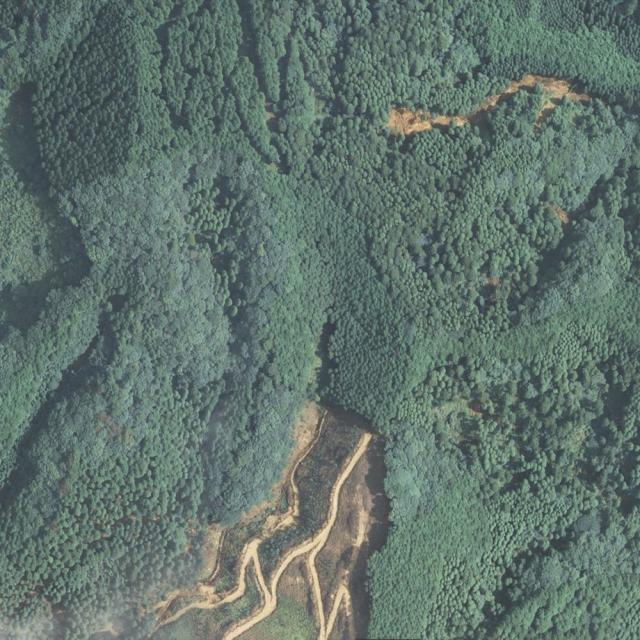landslide: (150, 405, 388, 640)
